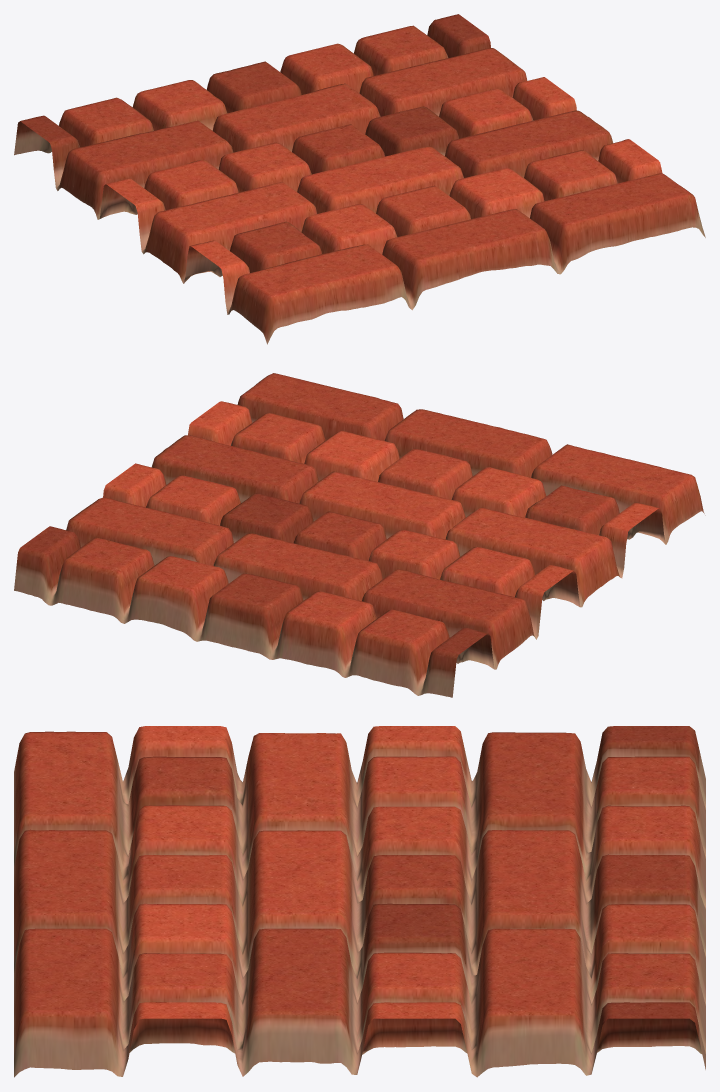
The model's file is brick_wall.obj.
3 renders of one model, top to bottom at view 1: azimuth 30°, elevation 25°; view 2: azimuth 150°, elevation 25°; view 3: azimuth 270°, elevation 25°, orthographic. The views are drawn at different scales.
Visible parts, largest first — view 1: bricks; view 2: bricks; view 3: bricks.
Boxes of the visible parts, bbox=[...] form: bricks: bbox=[14, 14, 705, 344]; bricks: bbox=[14, 373, 705, 697]; bricks: bbox=[14, 726, 705, 1077].
Size of the model in its own units: 0.9922 by 0.0976 by 0.9922.
